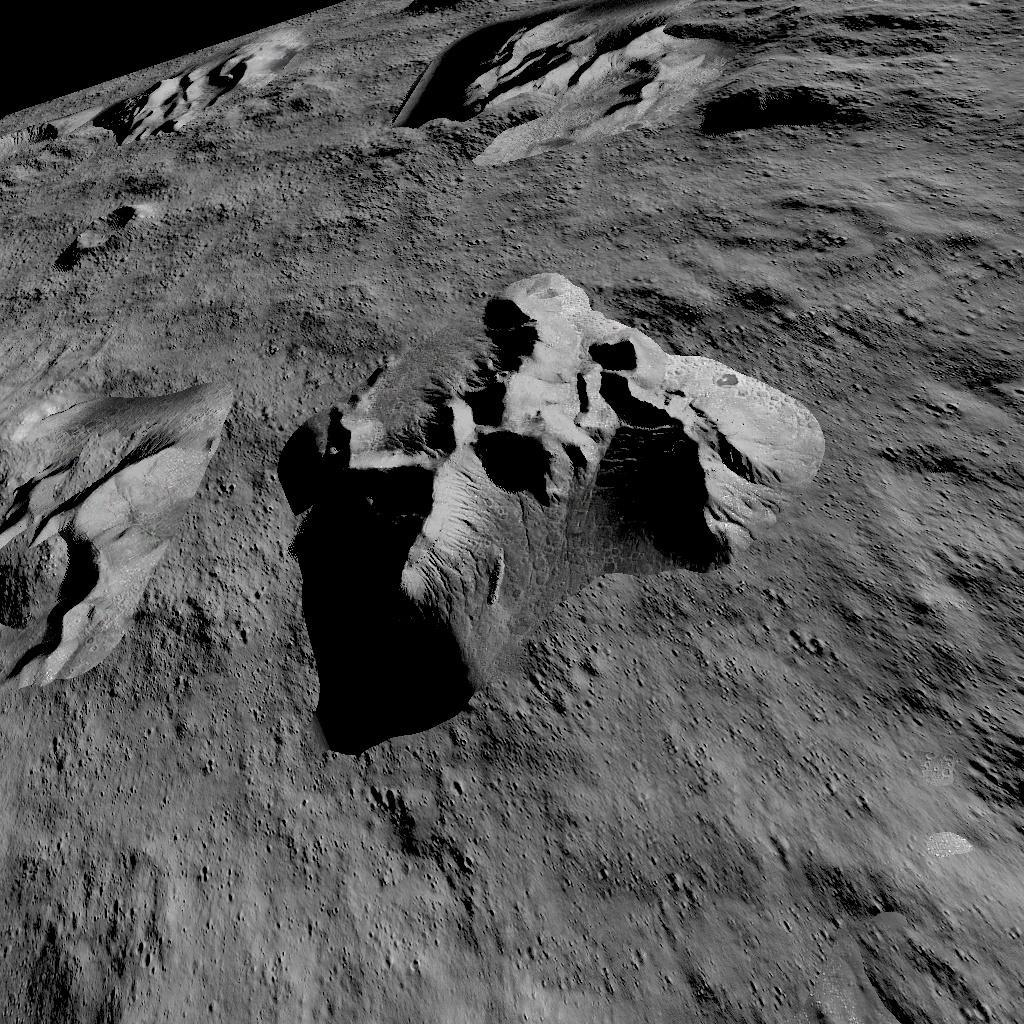Boulders: (275, 269, 820, 759), (398, 0, 884, 165), (0, 378, 228, 688), (86, 18, 262, 136)
Crater: (60, 184, 147, 258), (0, 106, 78, 166), (278, 84, 328, 124)
Plan surface: (12, 774, 986, 1024), (841, 273, 1024, 746), (188, 174, 1020, 256), (2, 276, 258, 362), (900, 0, 1024, 162)
